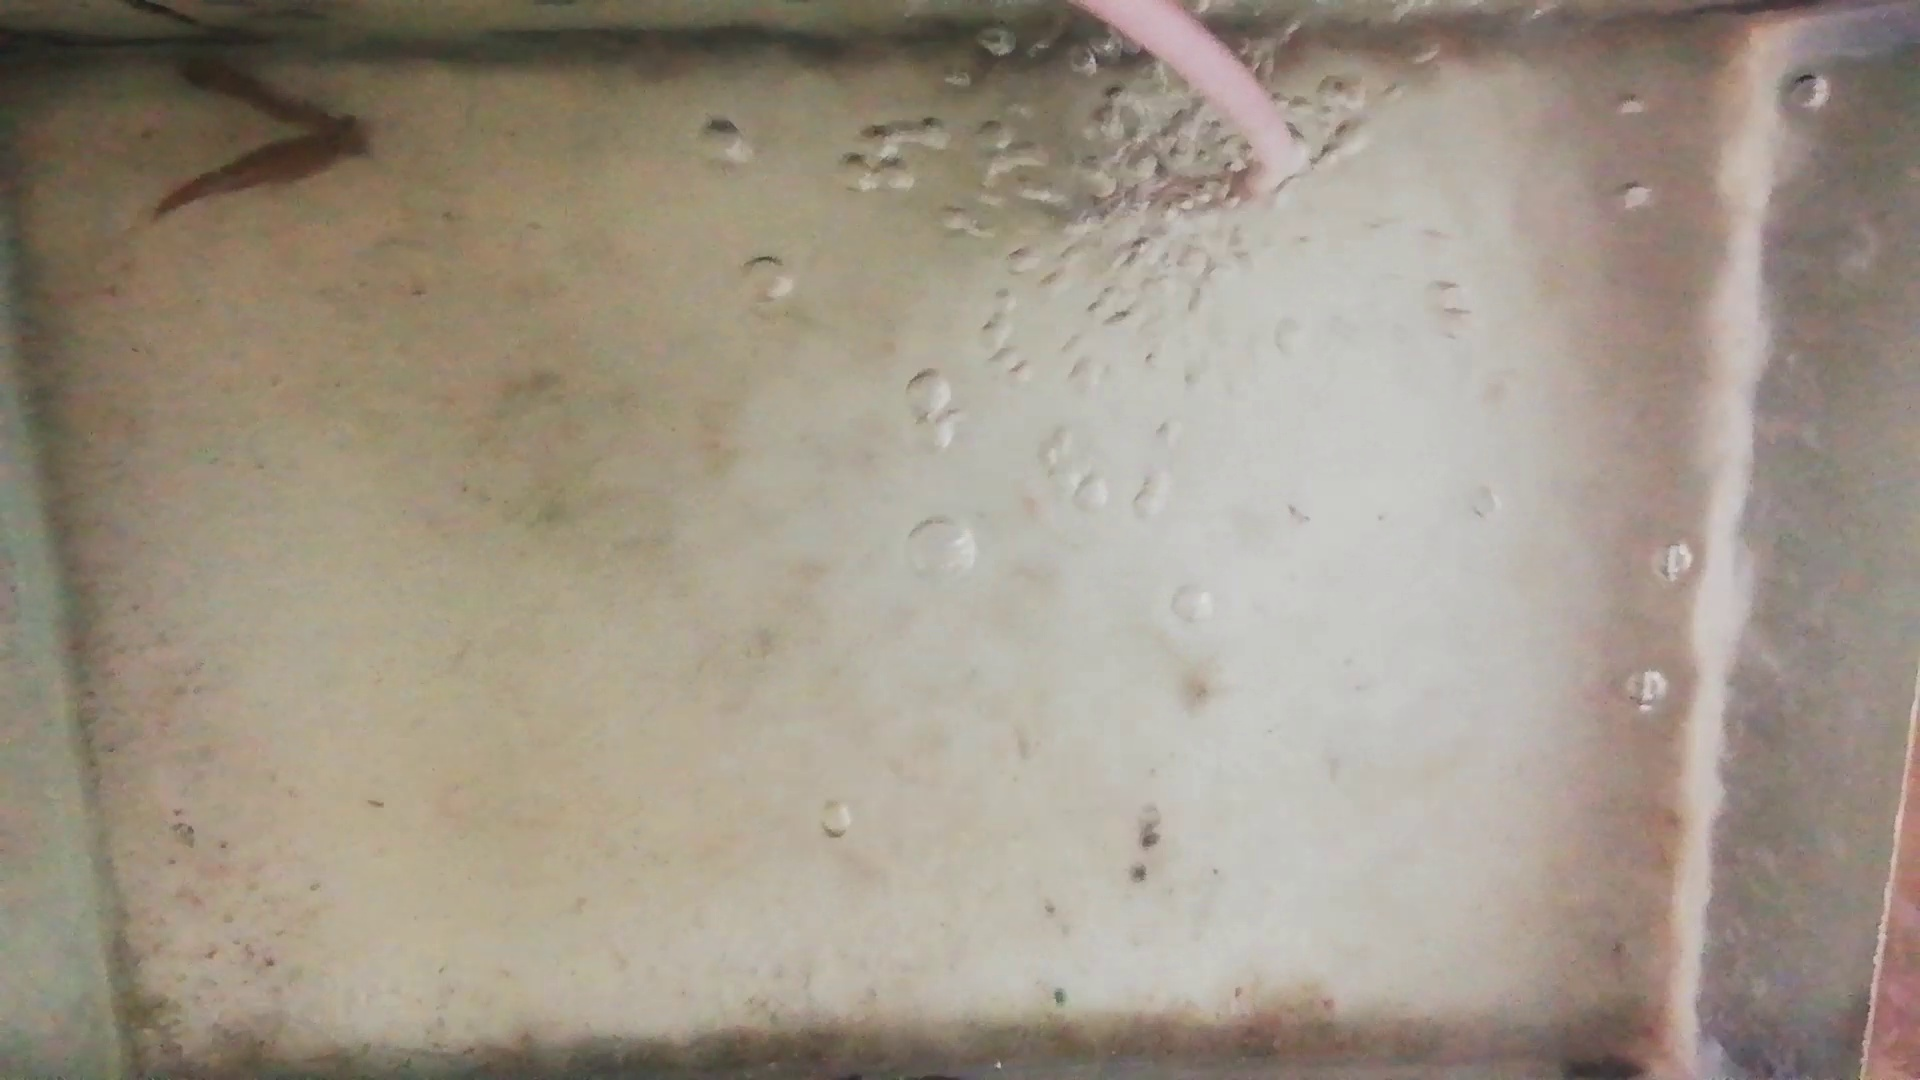fish: (152, 113, 380, 218), (164, 47, 338, 128)
